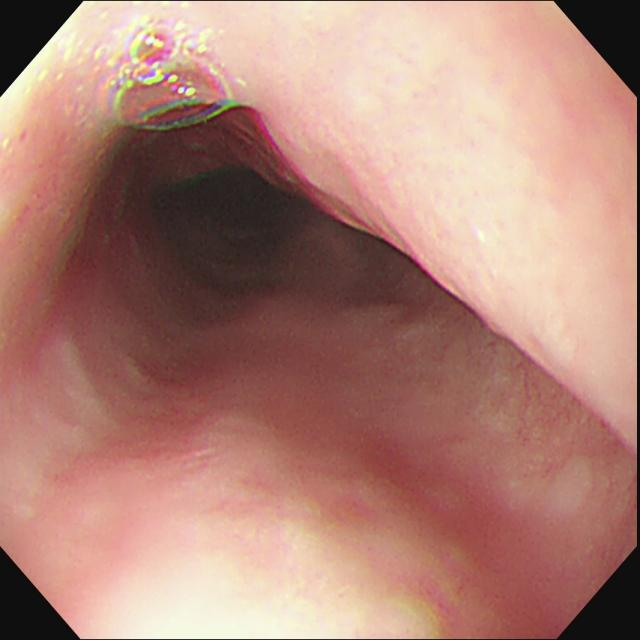E: (182, 171, 278, 255)
T: (115, 29, 230, 134)
